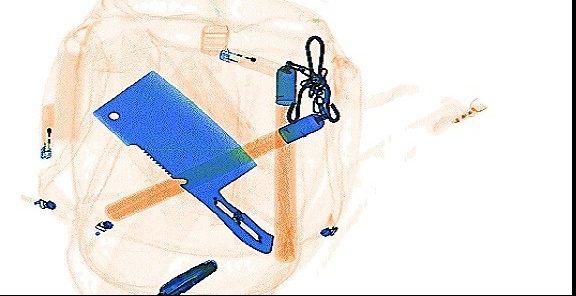knife: (90, 68, 277, 257), (157, 258, 220, 292)
lighter: (215, 45, 286, 79), (37, 100, 56, 161)
